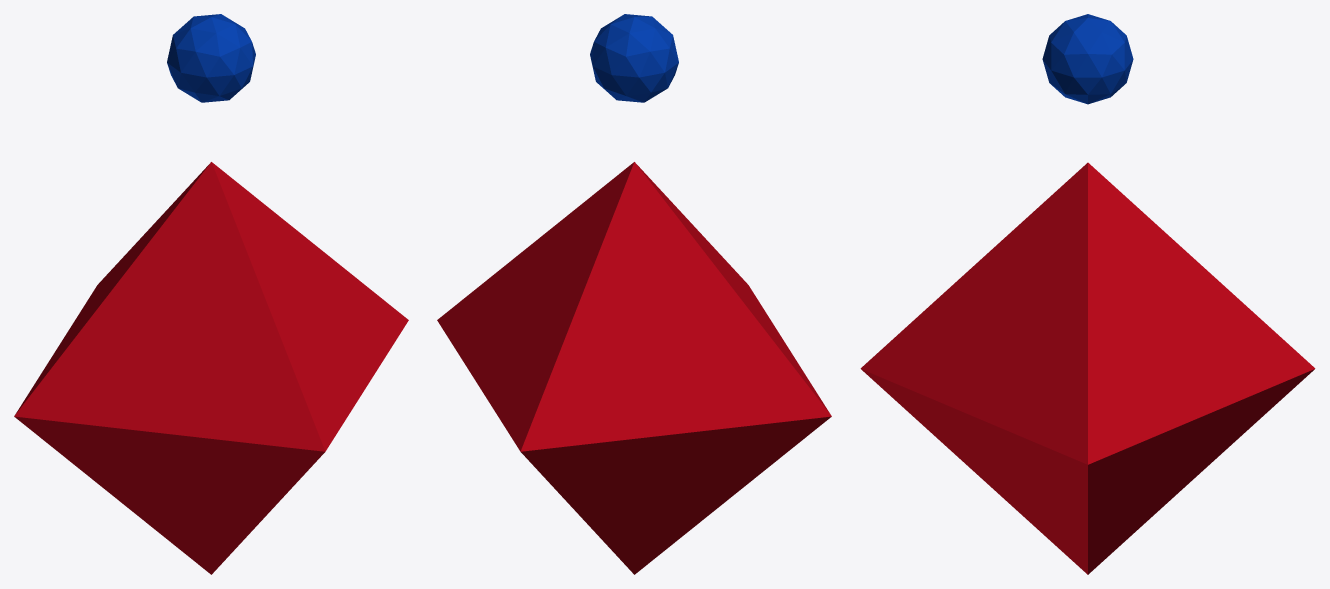
The model's file is crystal1.obj.
The picture shows the model from 3 angles, left to right: view 1: azimuth 30°, elevation 25°; view 2: azimuth 150°, elevation 25°; view 3: azimuth 270°, elevation 25°; orthographic projection.
Parts seen in each view (by area): view 1: 立方体; view 2: 立方体; view 3: 立方体.
Part boxes in pixels (<box>): 立方体: <box>14,14,408,574</box>; 立方体: <box>437,14,831,574</box>; 立方体: <box>860,14,1315,574</box>.
Size of the model in its own units: 2 by 2.7 by 2.
Materials: 1 (1 with a texture image).
